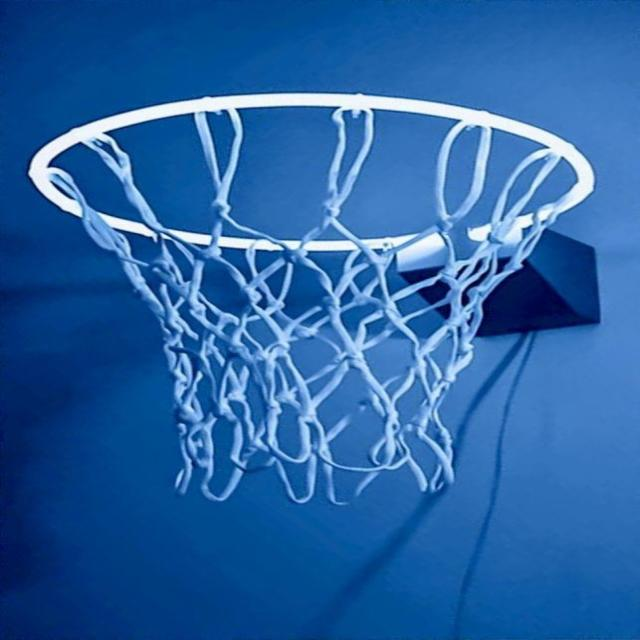hoop: (0, 115, 637, 499)
